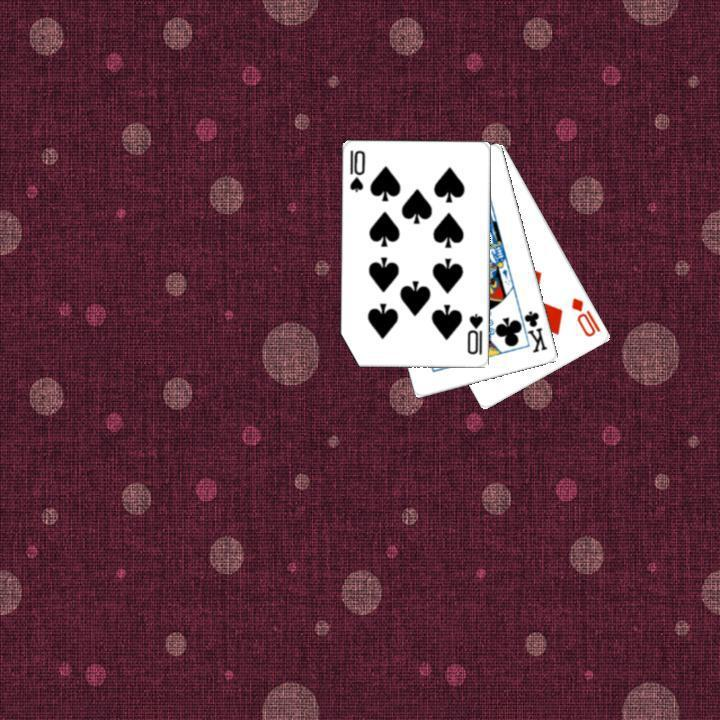10: (567, 293, 603, 339), (345, 146, 367, 195), (463, 309, 485, 357)
K: (514, 305, 549, 355)
